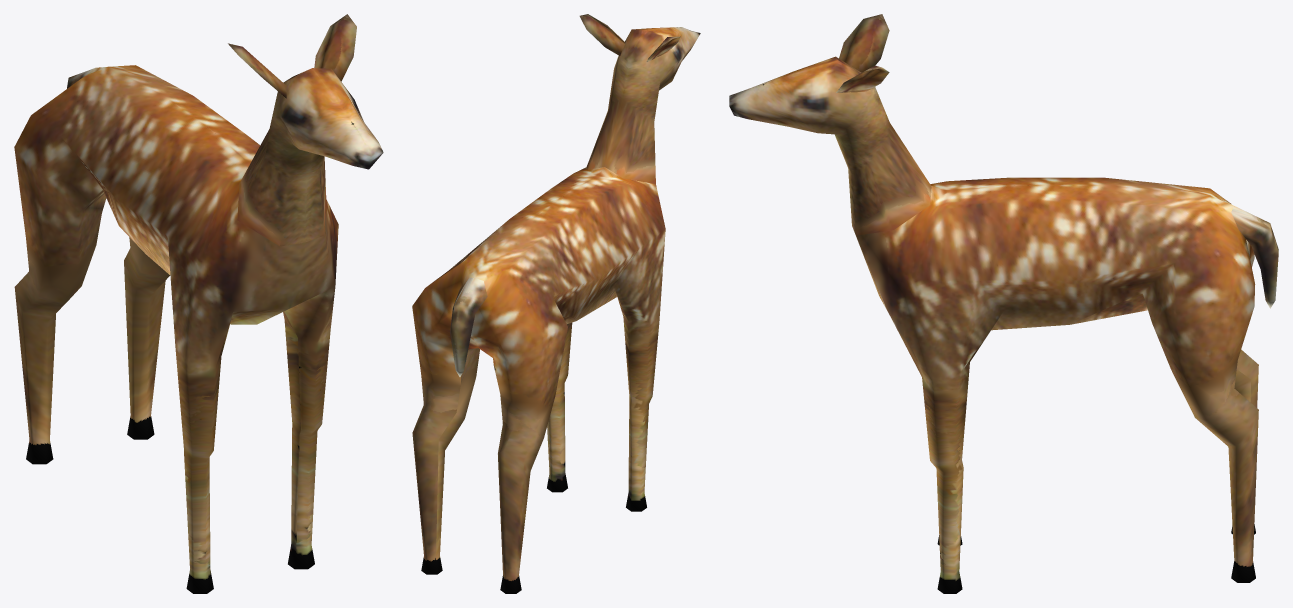
File: deer.obj
The picture shows the model from 3 angles, left to right: view 1: azimuth 30°, elevation 25°; view 2: azimuth 150°, elevation 25°; view 3: azimuth 270°, elevation 25°; orthographic projection. The views are drawn at different scales.
Parts seen in each view (by area): view 1: Cylinder; view 2: Cylinder; view 3: Cylinder.
Boxes of the visible parts, bbox=[...] form: Cylinder: bbox=[14, 14, 383, 593]; Cylinder: bbox=[412, 14, 700, 593]; Cylinder: bbox=[729, 14, 1278, 593].
Size of the model in its own units: 0.4661 by 1.48 by 1.4.
